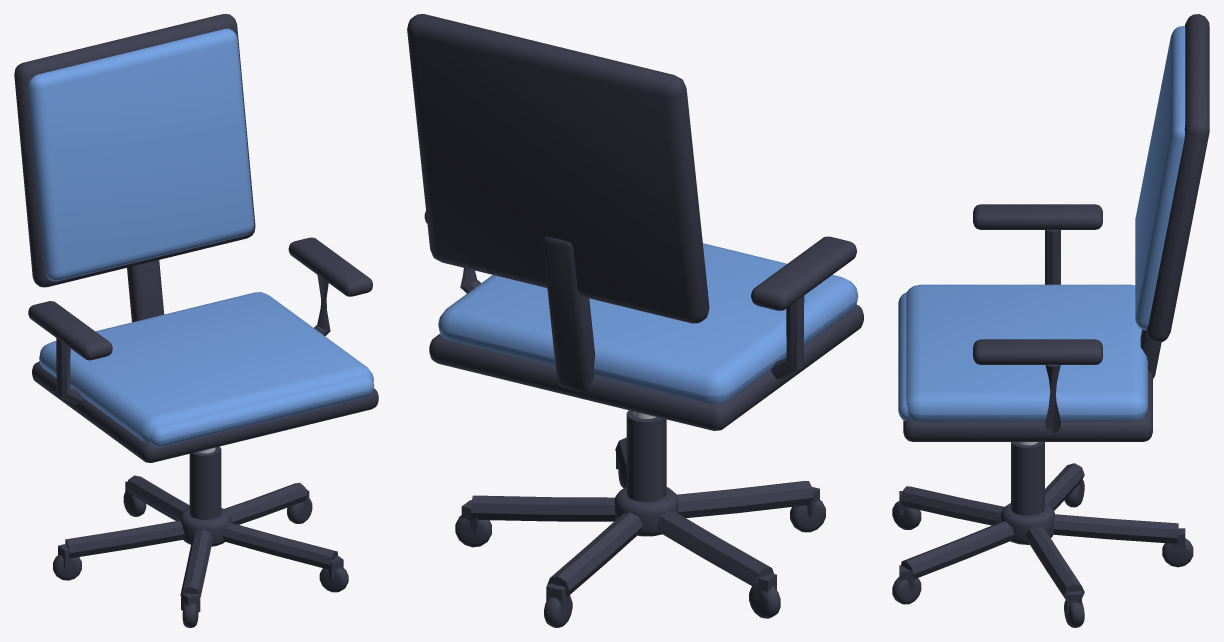
Rendered from office_chair.glb.
3 views of the same model, side by side, from view 1: azimuth 30°, elevation 25°; view 2: azimuth 150°, elevation 25°; view 3: azimuth 270°, elevation 25° (orthographic). The views are drawn at different scales.
Parts seen in each view (by area): view 1: accent_fabric, charcoal; view 2: charcoal, accent_fabric; view 3: charcoal, accent_fabric.
Part boxes in pixels (x1,y1,x2,y2): accent_fabric: (28, 28, 374, 447); charcoal: (14, 14, 378, 627); charcoal: (407, 14, 863, 627); accent_fabric: (438, 84, 858, 403); charcoal: (892, 14, 1209, 627); accent_fabric: (898, 26, 1185, 421).
Bounding box in the file's own units: 0.71 × 1.1 × 0.6356.
